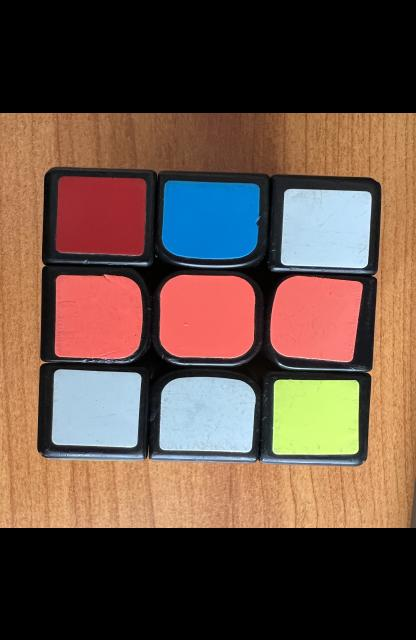Blue: (162, 179, 259, 258)
Orange: (159, 273, 256, 358), (270, 274, 363, 361), (54, 273, 143, 358)
Red: (56, 176, 147, 255)
White: (159, 375, 256, 451), (280, 188, 372, 267), (52, 369, 142, 447)
Yellow: (272, 378, 359, 454)
